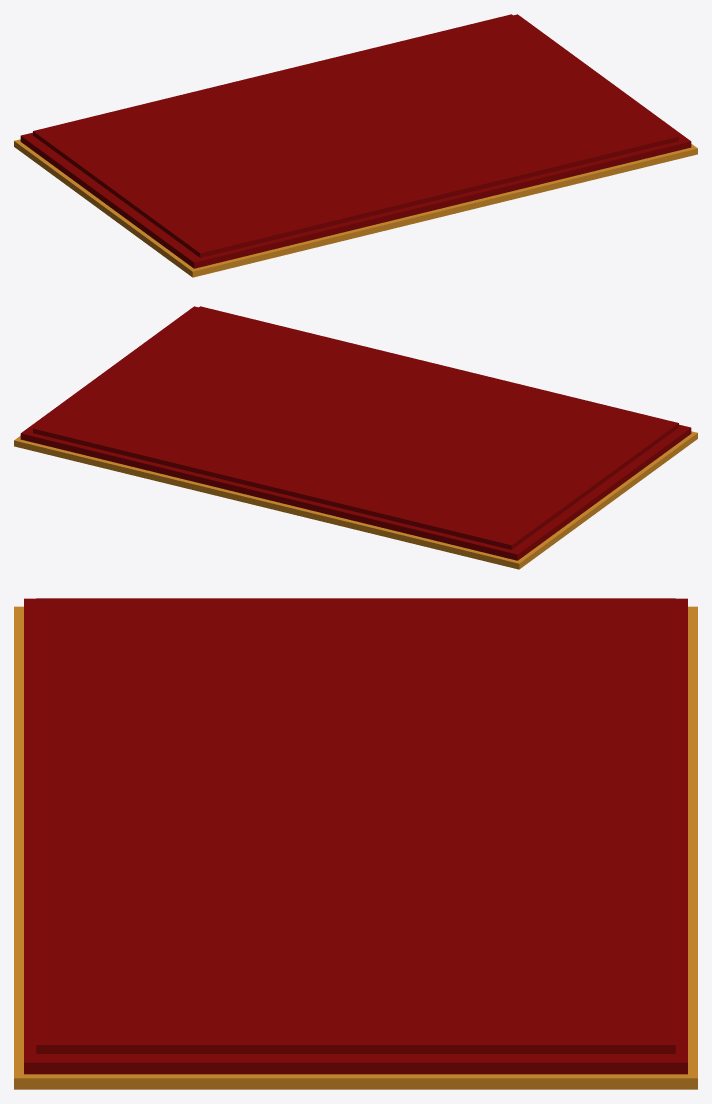
The model's file is tapisRectangleRouge.fbx.
3 views of the same model, one above another, from view 1: azimuth 30°, elevation 25°; view 2: azimuth 150°, elevation 25°; view 3: azimuth 270°, elevation 25° (orthographic). The views are drawn at different scales.
Parts seen in each view (by area): view 1: Cube, Cube.001; view 2: Cube, Cube.001; view 3: Cube, Cube.001.
Boxes of the visible parts, bbox=[...] form: Cube: bbox=[20, 14, 691, 268]; Cube.001: bbox=[14, 139, 697, 277]; Cube: bbox=[20, 306, 691, 560]; Cube.001: bbox=[14, 431, 697, 569]; Cube: bbox=[24, 598, 687, 1074]; Cube.001: bbox=[14, 606, 697, 1089].
Size of the model in its own units: 1240 by 39.43 by 760.
